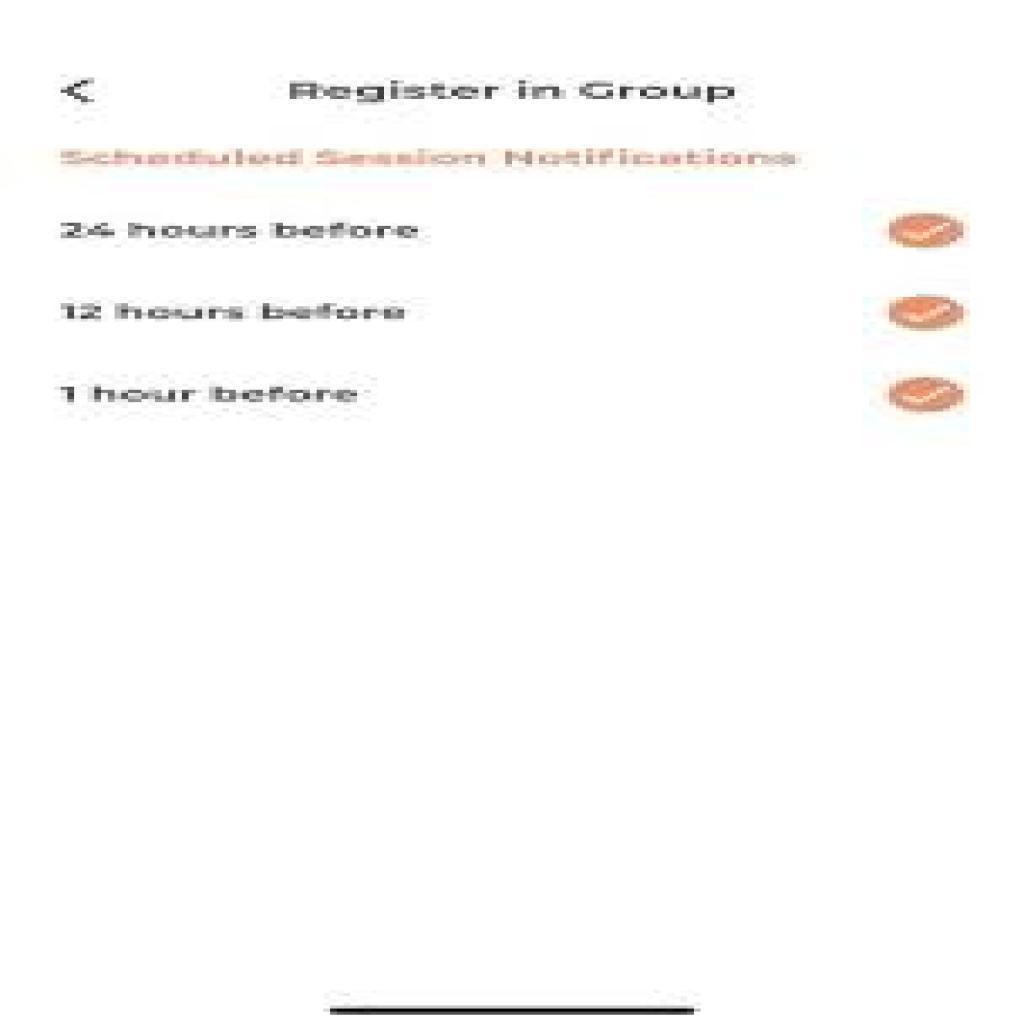radio: (881, 204, 969, 256), (882, 375, 971, 422), (881, 291, 977, 333)
